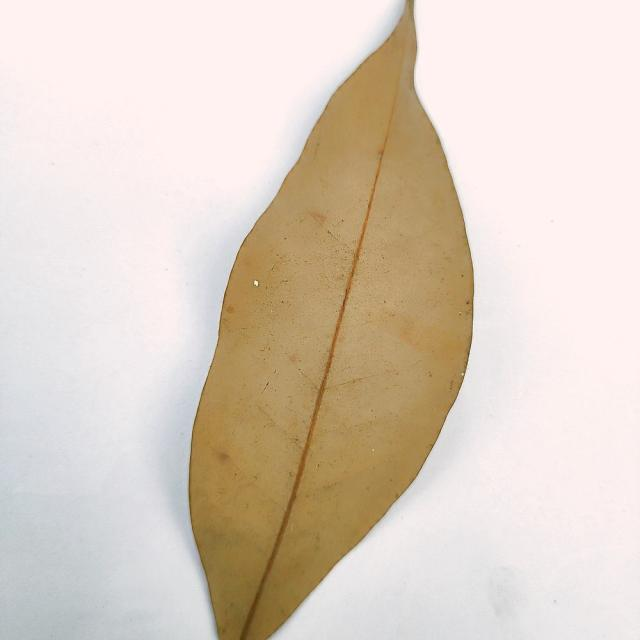Dry_Leaf-Lychee: (187, 0, 475, 639)
